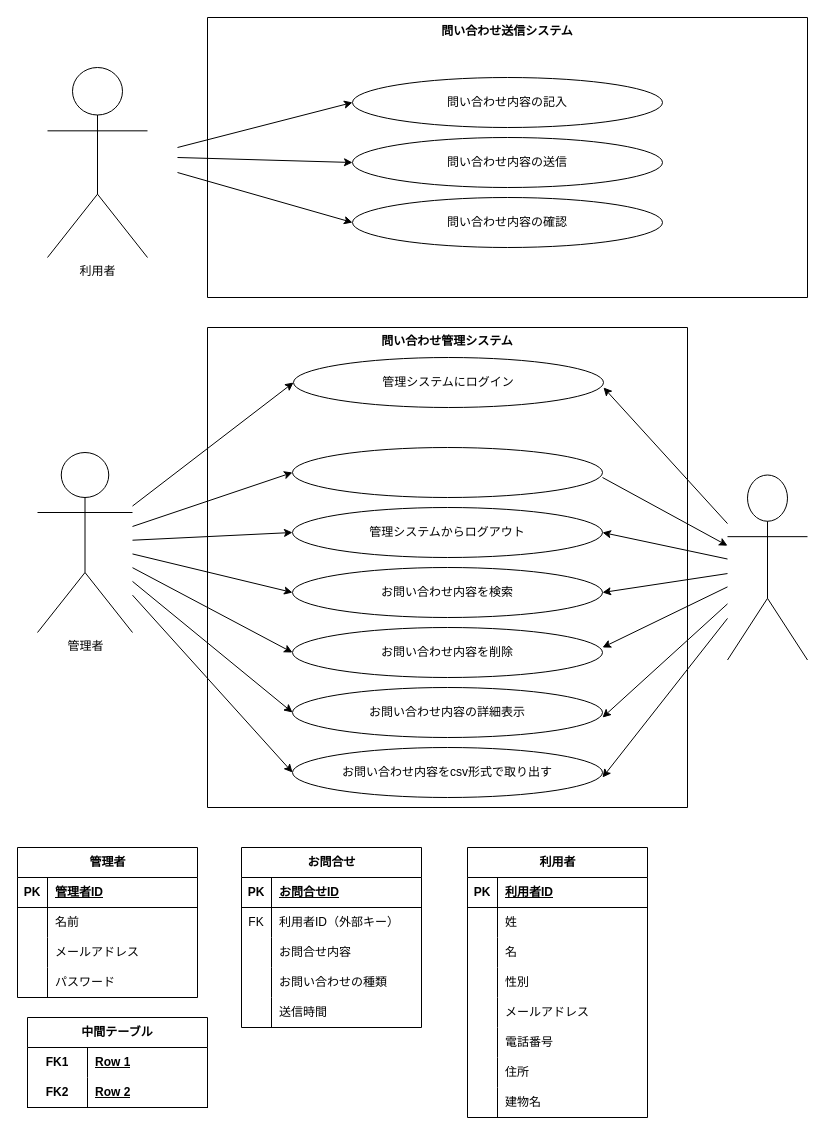
The diagram is 825 pixels wide and 1135 high, and some of its shapes have lost their labels. The centre of each missing label's shape, as x and y in pixels:
新規ユーザーの作成・登録: pixel 447 472
新規管理者: pixel 767 567
